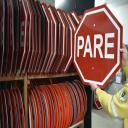Pare: (72, 2, 124, 90)
